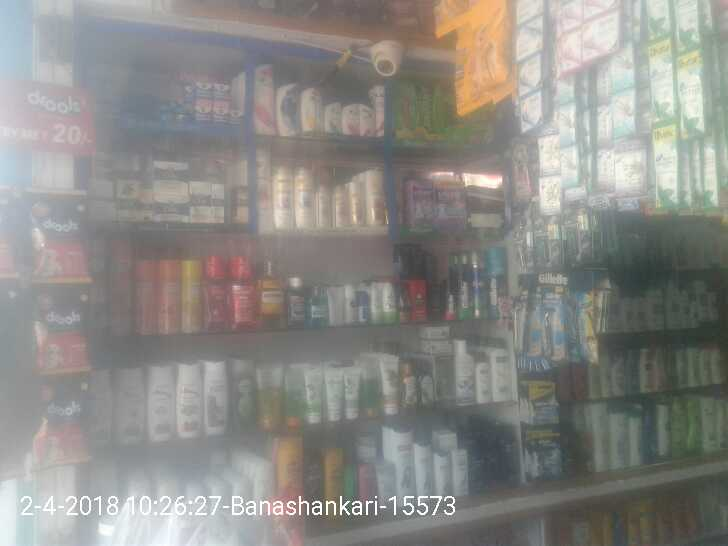vicks: (191, 77, 214, 100), (211, 103, 233, 122), (214, 79, 232, 100), (193, 103, 211, 122)
